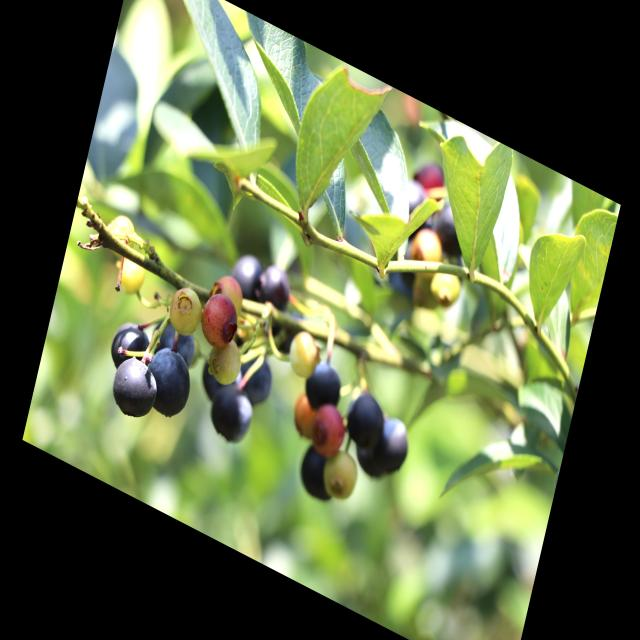blueberry: (104, 346, 162, 430), (142, 340, 198, 426), (204, 376, 257, 455), (105, 311, 157, 384), (293, 437, 344, 509), (370, 413, 417, 486), (342, 383, 389, 454), (151, 310, 201, 370), (301, 354, 346, 419), (252, 254, 297, 315), (234, 352, 279, 412), (229, 245, 265, 302)
blueberry-halfripe: (196, 285, 244, 359), (306, 394, 350, 460), (289, 386, 320, 440)
blueberry-unripe: (318, 441, 363, 508), (205, 330, 248, 390), (165, 282, 207, 341), (409, 219, 446, 278), (287, 325, 323, 383), (113, 248, 150, 302), (428, 258, 464, 310)
